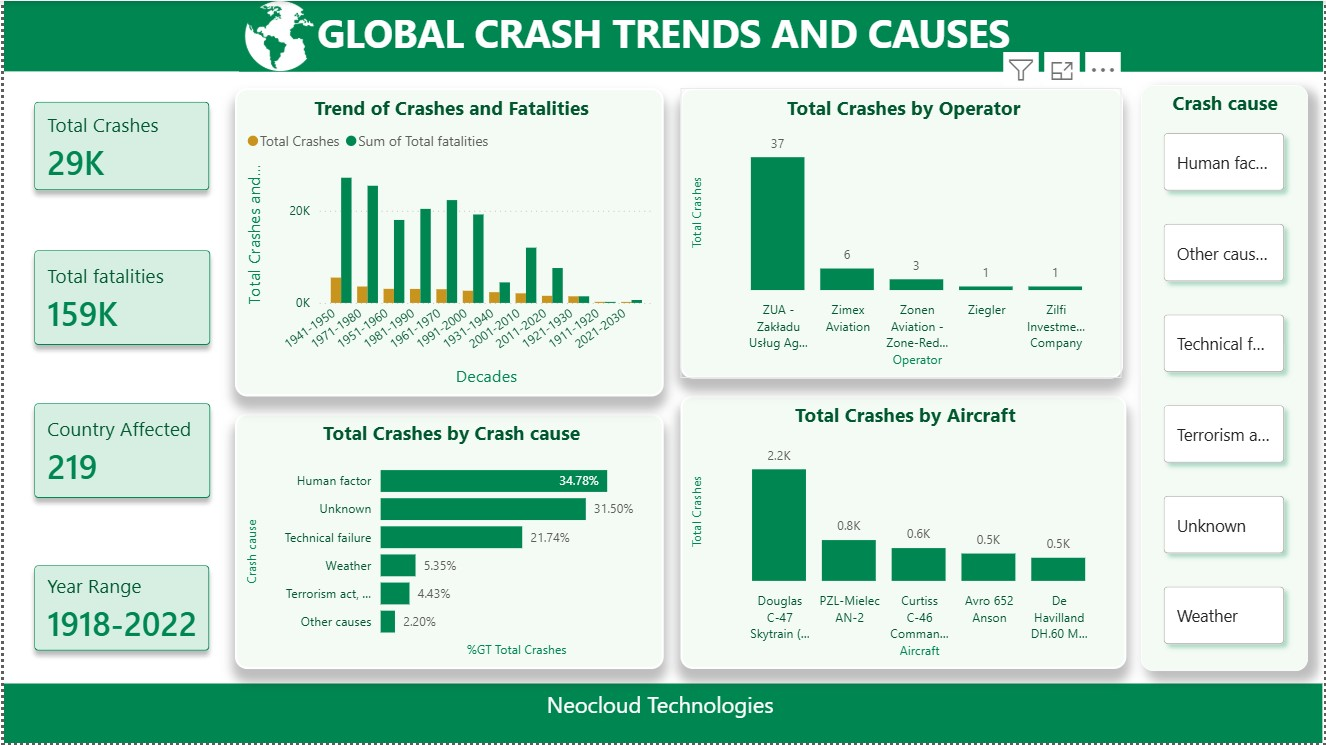

Layout of this report page (visuals, bound fields, positions):
{"tool":"powerbi","page":{"name":"Global Crash Causes Dashboard","canvas":[1280,720],"ordinal":1},"visuals":[{"type":"textbox","box":[0,662.3,1279.2,58.3],"z":0},{"type":"textbox","box":[0,0,1280,68.5],"z":1000},{"type":"cardVisual","fields":{"Data":["Worksheet.Total Crashes"]},"box":[0,68,228.3,144.1],"z":2000},{"type":"cardVisual","fields":{"Data":["Sum(Worksheet.Total fatalities)"]},"box":[0,212.1,229.9,150.6],"z":3000},{"type":"cardVisual","fields":{"Data":["Count(Worksheet.Country)"]},"box":[0,361.1,229.9,150.6],"z":4000},{"type":"cardVisual","fields":{"Data":["Worksheet.Year Range"]},"box":[0,517.8,228.7,141.7],"z":5000},{"type":"clusteredBarChart","title":"Total Crashes by Crash cause","fields":{"Category":["Worksheet.Crash cause"],"Y":["Worksheet.Total Crashes"]},"box":[223.5,399.9,416.1,247.7],"z":6000},{"type":"clusteredColumnChart","title":"Trend of Crashes and Fatalities","fields":{"Category":["Worksheet.Decades"],"Y":["Worksheet.Total Crashes","Sum(Worksheet.Total fatalities)"]},"box":[223.5,84.2,416.1,299.6],"z":7000},{"type":"columnChart","title":"Total Crashes by Aircraft","fields":{"Category":["Worksheet.Aircraft"],"Y":["Worksheet.Total Crashes"]},"box":[655.8,382.1,432.3,265.6],"z":8000},{"type":"clusteredColumnChart","fields":{"Category":["Worksheet.Operator"],"Y":["Worksheet.Total Crashes"]},"box":[655.8,84.2,429.1,281.7],"z":9000},{"type":"advancedSlicerVisual","fields":{"Values":["Worksheet.Crash cause"]},"box":[1102.7,81,161.9,568.3],"z":10000},{"type":"image","box":[229.9,0,74.5,68],"z":11000}]}

Visuals, with their boxes in screenshot pixels (x1, y1, x2, y2), scaled from the page's 1280x720 canvas onto the 1326x745 screenshot:
textbox: rect(0, 685, 1325, 744)
textbox: rect(0, 0, 1325, 71)
cardVisual - Worksheet.Total Crashes: rect(0, 70, 237, 219)
cardVisual - Sum(Worksheet.Total fatalities): rect(0, 219, 238, 375)
cardVisual - Count(Worksheet.Country): rect(0, 374, 238, 529)
cardVisual - Worksheet.Year Range: rect(0, 536, 237, 682)
"Total Crashes by Crash cause" clusteredBarChart: rect(232, 414, 663, 670)
"Trend of Crashes and Fatalities" clusteredColumnChart: rect(232, 87, 663, 397)
"Total Crashes by Aircraft" columnChart: rect(679, 395, 1127, 670)
clusteredColumnChart - Worksheet.Operator x Worksheet.Total Crashes: rect(679, 87, 1124, 379)
advancedSlicerVisual - Worksheet.Crash cause: rect(1142, 84, 1310, 672)
image: rect(238, 0, 315, 70)
